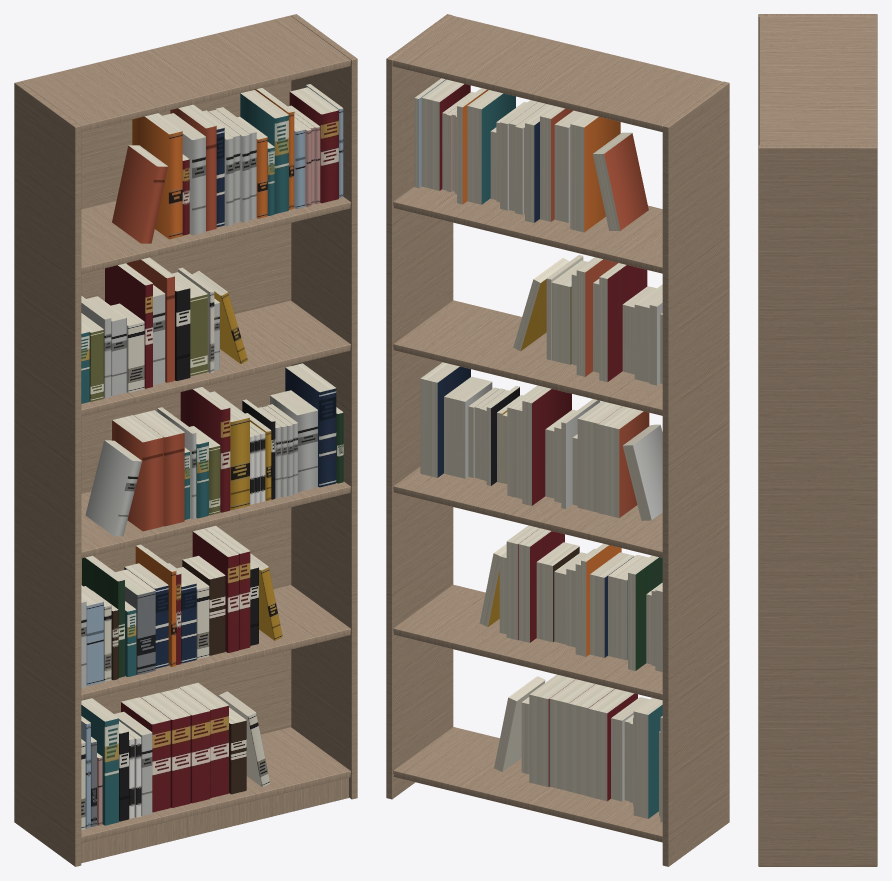
File: bookshelf_oak.glb
3 renders of one model, left to right at view 1: azimuth 30°, elevation 25°; view 2: azimuth 150°, elevation 25°; view 3: azimuth 270°, elevation 25°, orthographic. The views are drawn at different scales.
Visible parts, largest first — view 1: shelf_filled_hard; view 2: shelf_filled_hard; view 3: shelf_filled_hard.
Part boxes in pixels (bbox=[...]): shelf_filled_hard: bbox=[14, 14, 357, 866]; shelf_filled_hard: bbox=[386, 14, 729, 866]; shelf_filled_hard: bbox=[758, 14, 877, 866].
Size of the model in its own units: 0.7999 by 2 by 0.3001.
Materials: 2 (2 with a texture image).
